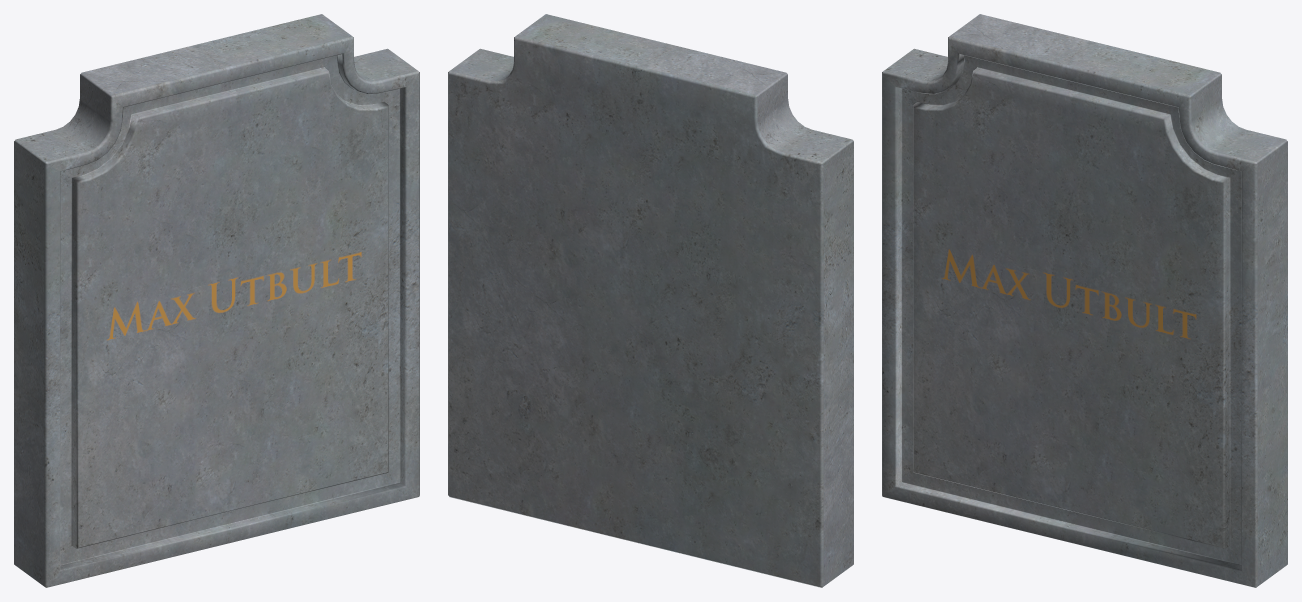
Rendered from max_utbult.obj.
The picture shows the model from 3 angles, left to right: view 1: azimuth 30°, elevation 25°; view 2: azimuth 150°, elevation 25°; view 3: azimuth 330°, elevation 25°; orthographic projection.
Parts seen in each view (by area): view 1: max_utbult triangle_done; view 2: max_utbult triangle_done; view 3: max_utbult triangle_done.
Boxes of the visible parts, x1,y1,x2,y2 form: max_utbult triangle_done: [14, 14, 419, 587]; max_utbult triangle_done: [448, 14, 853, 587]; max_utbult triangle_done: [882, 14, 1287, 587].
Bounding box in the file's own units: 18.73 × 22.72 × 2.87.
Materials: 1 (1 with a texture image).
